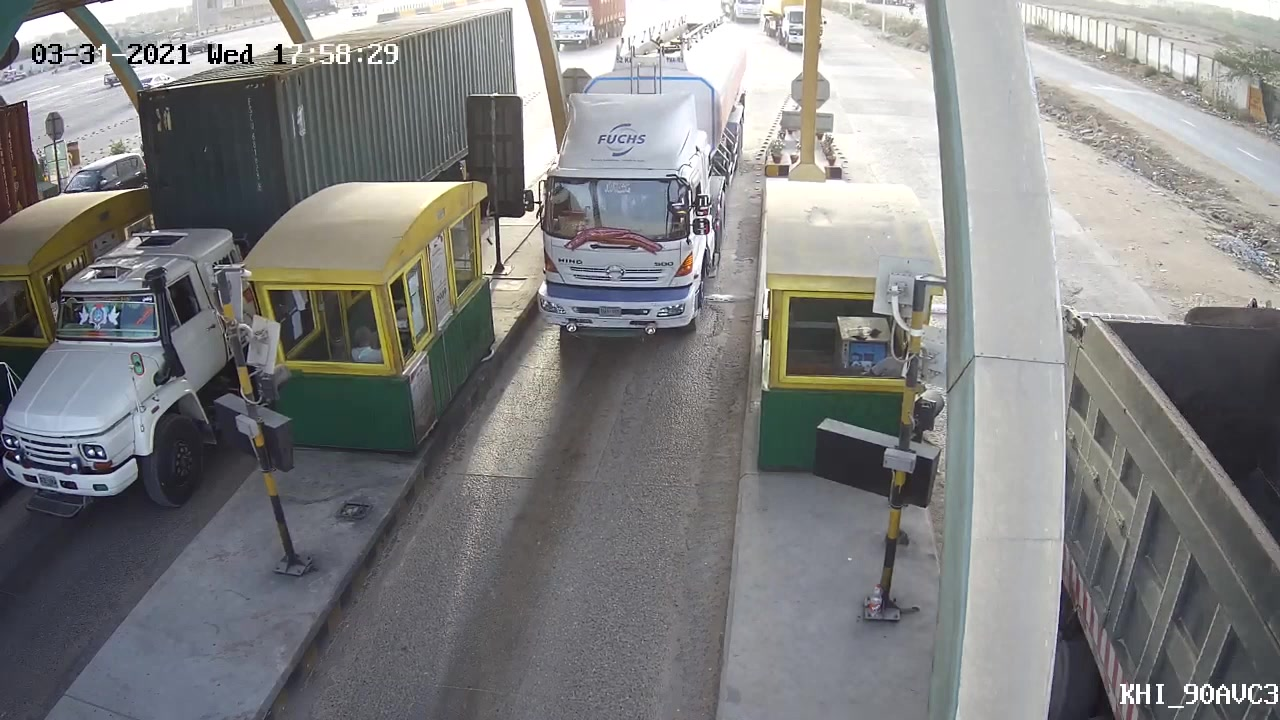F6: (527, 11, 759, 343)
